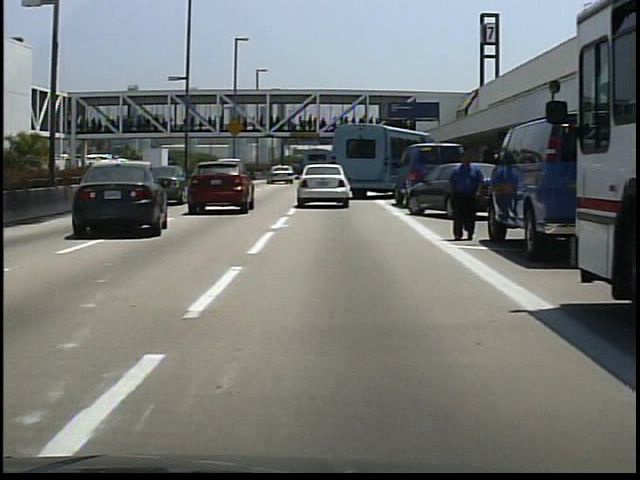person: (443, 147, 492, 246)
